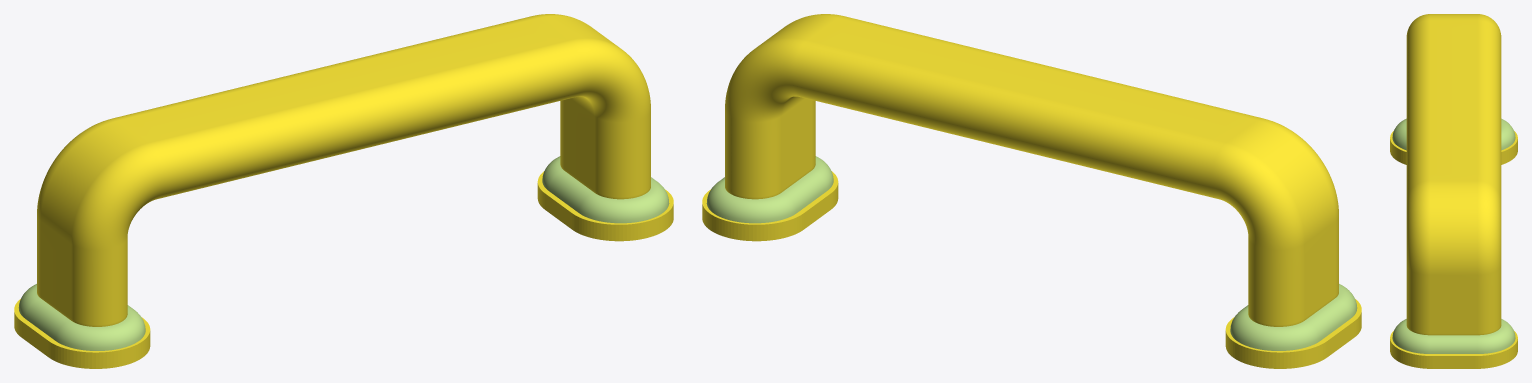
Rendered from openscad_drawer-handles.glb.
The picture shows the model from 3 angles, left to right: view 1: azimuth 30°, elevation 25°; view 2: azimuth 150°, elevation 25°; view 3: azimuth 270°, elevation 25°; orthographic projection. The views are drawn at different scales.
Parts seen in each view (by area): view 1: object; view 2: object; view 3: object.
Part boxes in pixels (left/top/right/bottom): object: left=14, top=14, right=673, bottom=368; object: left=702, top=14, right=1361, bottom=368; object: left=1390, top=14, right=1517, bottom=368.
Size of the model in its own units: 118 by 35 by 26.99.
